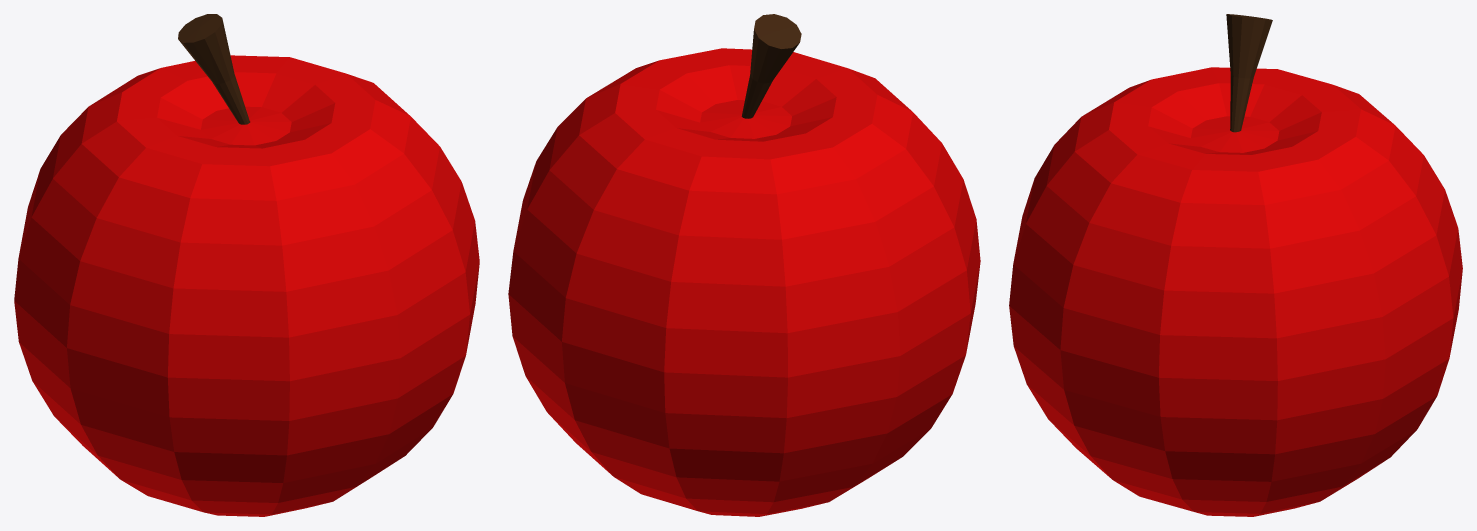
The model's file is Ingredient1.fbx.
3 views of the same model, side by side, from view 1: azimuth 30°, elevation 25°; view 2: azimuth 150°, elevation 25°; view 3: azimuth 270°, elevation 25° (orthographic). The views are drawn at different scales.
Visible parts, largest first — view 1: Apple; view 2: Apple; view 3: Apple.
Part boxes in pixels (box(x1,y1,x2,y2)): Apple: box(14, 14, 479, 516); Apple: box(508, 14, 980, 516); Apple: box(1009, 14, 1462, 516).
Bounding box in the file's own units: 88.59 × 100 × 88.59.
